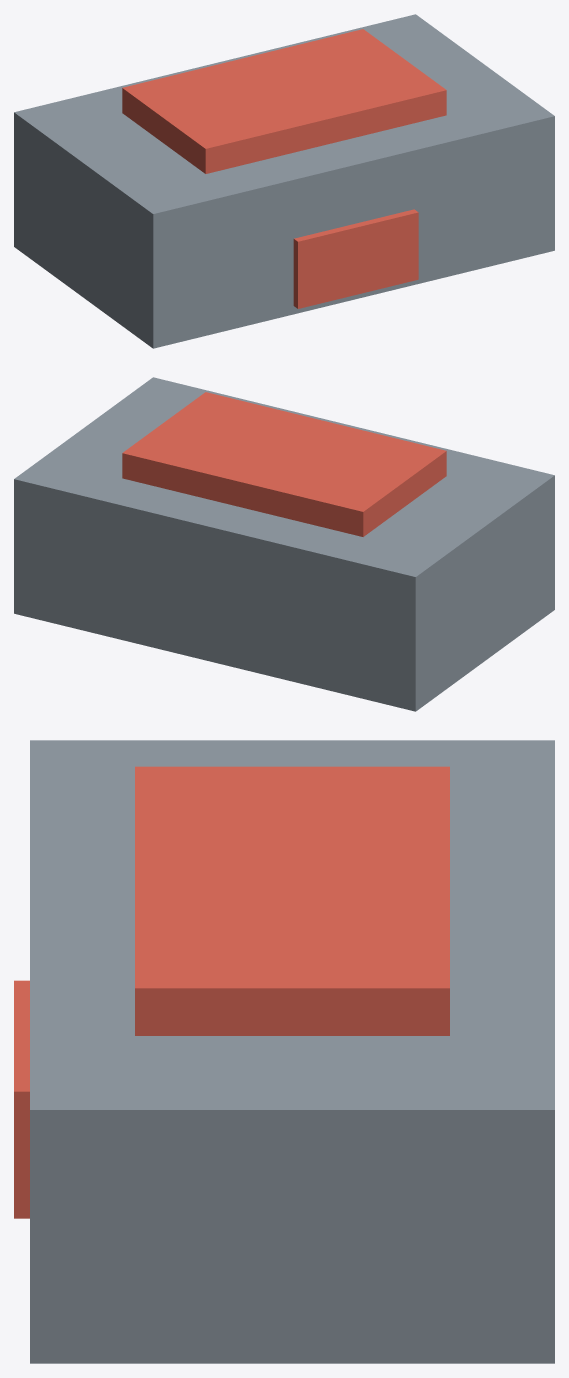
The model's file is SM_Soviet_SU_GranitMBT_Blockout.fbx.
3 renders of one model, top to bottom at view 1: azimuth 30°, elevation 25°; view 2: azimuth 150°, elevation 25°; view 3: azimuth 270°, elevation 25°, orthographic. The views are drawn at different scales.
Visible parts, largest first — view 1: MainBuilding, RoofStructure, EntranceGate; view 2: MainBuilding, RoofStructure; view 3: MainBuilding, RoofStructure, EntranceGate.
Boxes of the visible parts, x1=… form: MainBuilding: x1=14, y1=14, x2=554, y2=348; RoofStructure: x1=122, y1=29, x2=446, y2=173; EntranceGate: x1=293, y1=209, x2=418, y2=308; MainBuilding: x1=14, y1=377, x2=554, y2=711; RoofStructure: x1=122, y1=392, x2=446, y2=536; MainBuilding: x1=30, y1=740, x2=554, y2=1363; RoofStructure: x1=135, y1=766, x2=449, y2=1035; EntranceGate: x1=14, y1=980, x2=29, y2=1218.
Bounding box in the file's own units: 550 × 209 × 340.
